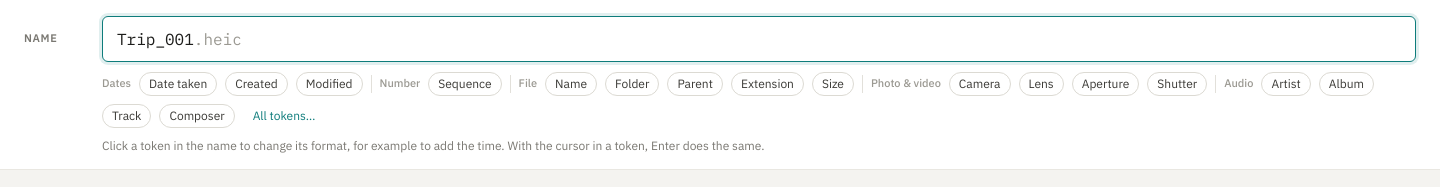
Test case: PatternBar › replaces selected text with the token
What coordinates should you click on to do the following:
click the button "Sequence"
I would click on:
 (465, 84)
Its box is [428,72,502,96].
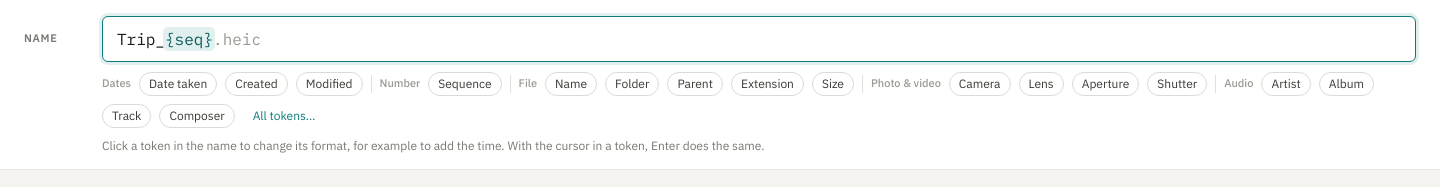
Now the field named "Name pattern" holds "Trip_{seq}", box [103,17,1415,61]
